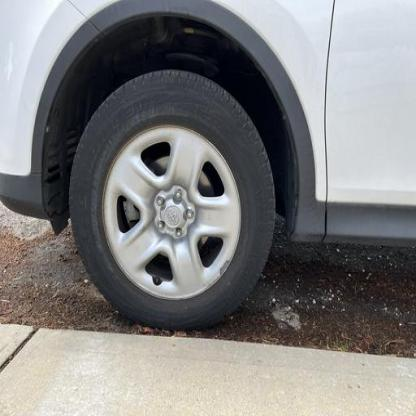Tire: (68, 67, 276, 332)
